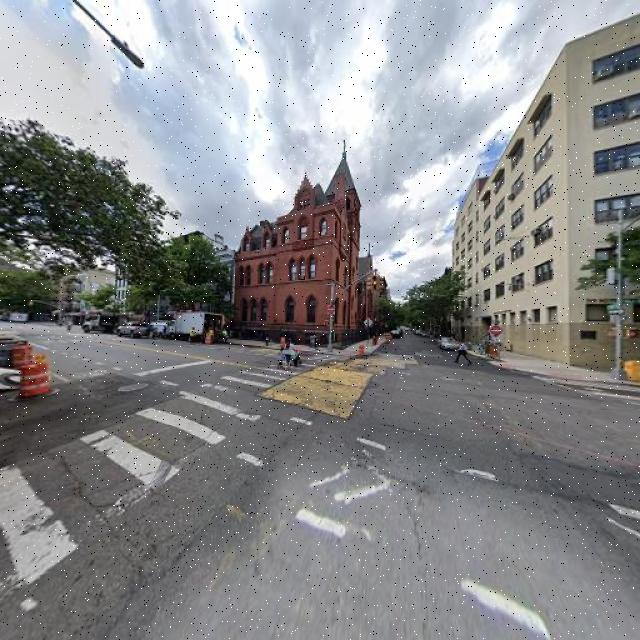Building: (457, 18, 640, 378), (237, 197, 359, 350)
